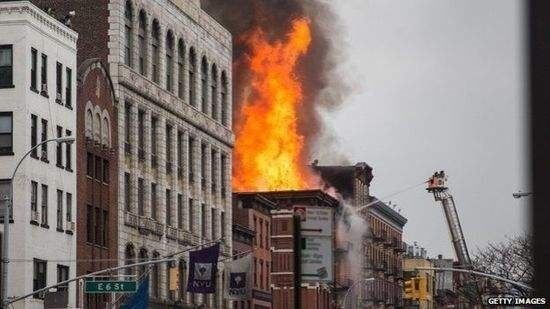fire: (233, 13, 315, 192)
